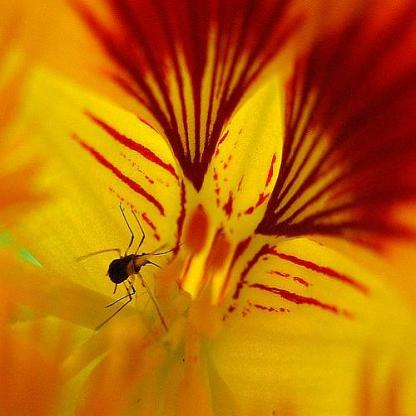aphid: (79, 204, 182, 351)
